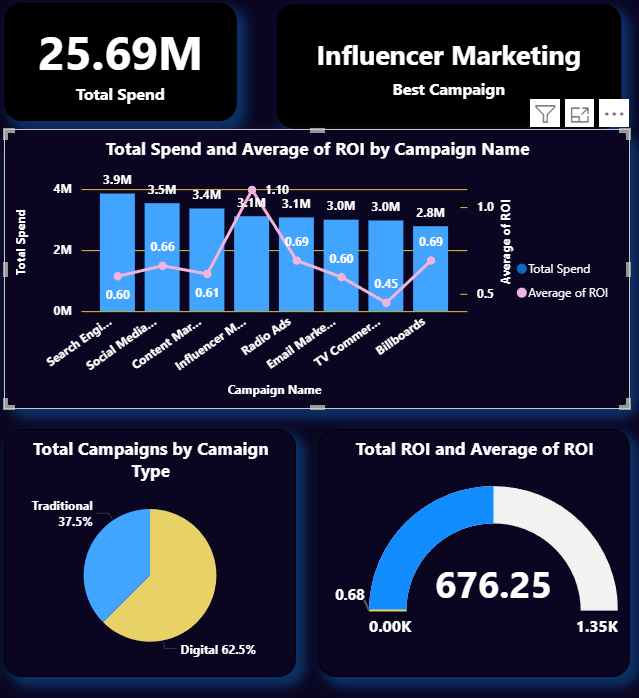

Layout of this report page (visuals, bound fields, positions):
{"tool":"powerbi","page":{"name":"Campaign Performance Overview","canvas":[1280,720],"ordinal":0},"visuals":[{"type":"columnChart","fields":{"Y":["marketing campaign performance.Total Spend","marketing campaign performance.Total Revenue"],"Category":["marketing campaign performance.Region"]},"box":[25,145.4,596,280.1],"z":0},{"type":"lineClusteredColumnComboChart","fields":{"Category":["marketing campaign details.Campaign Name"],"Y":["marketing campaign performance.Total Spend"],"Y2":["Avg(marketing campaign performance.ROI)"]},"box":[640.1,145.4,625.8,280.1],"z":1},{"type":"barChart","fields":{"Category":["marketing campaign details.Campaign Name"],"Y":["marketing campaign details.Total ROI"]},"box":[25,444.6,596,258.7],"z":2},{"type":"pieChart","title":"Total Campaigns by Camaign Type","fields":{"Category":["marketing campaign details.Camaign Type"],"Y":["CountNonNull(marketing campaign details.Total Campaigns)"]},"box":[640.1,444.6,292,247.9],"z":3},{"type":"gauge","fields":{"TargetValue":["Avg(marketing campaign performance.ROI)"],"Y":["marketing campaign details.Total ROI"]},"box":[953.6,444.6,312.3,247.9],"z":4},{"type":"card","fields":{"Values":["Avg(marketing campaign performance.ROI)"]},"box":[33.4,19.1,231.3,118],"z":5},{"type":"card","fields":{"Values":["marketing campaign performance.Total Revenue"]},"box":[323,11.9,236,125.2],"z":6},{"type":"card","fields":{"Values":["marketing campaign performance.Total Spend"]},"box":[640.1,19.1,232.4,118],"z":7},{"type":"card","fields":{"Values":["marketing campaign details.Best Campaign"]},"box":[911.9,20.3,344.5,125.2],"z":8}]}

Visuals, with their boxes on the page's 1280x720 design canvas (x1, y1, x2, y2). These are canvas units, not pixel positions in the 639x698 screenshot, which may show the page scaled, cropped or inside an application window:
columnChart - marketing campaign performance.Total Spend x marketing campaign performance.Total Revenue: detection(25, 145, 621, 426)
lineClusteredColumnComboChart - marketing campaign details.Campaign Name x marketing campaign performance.Total Spend: detection(640, 145, 1266, 426)
barChart - marketing campaign details.Campaign Name x marketing campaign details.Total ROI: detection(25, 445, 621, 703)
"Total Campaigns by Camaign Type" pieChart: detection(640, 445, 932, 692)
gauge - Avg(marketing campaign performance.ROI) x marketing campaign details.Total ROI: detection(954, 445, 1266, 692)
card - Avg(marketing campaign performance.ROI): detection(33, 19, 265, 137)
card - marketing campaign performance.Total Revenue: detection(323, 12, 559, 137)
card - marketing campaign performance.Total Spend: detection(640, 19, 872, 137)
card - marketing campaign details.Best Campaign: detection(912, 20, 1256, 146)
